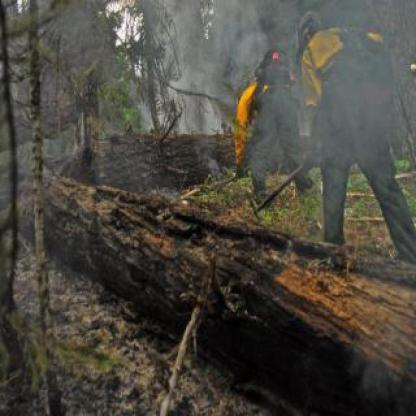Smoke: (145, 0, 416, 147)
